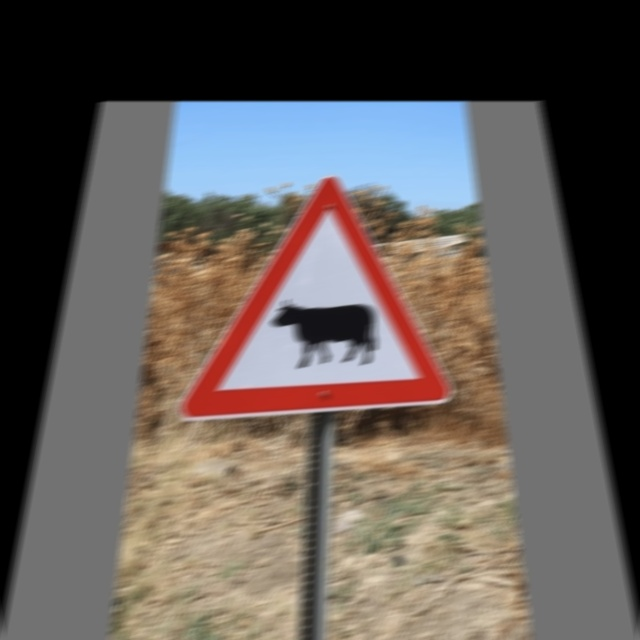Cattle: (192, 178, 455, 419)
